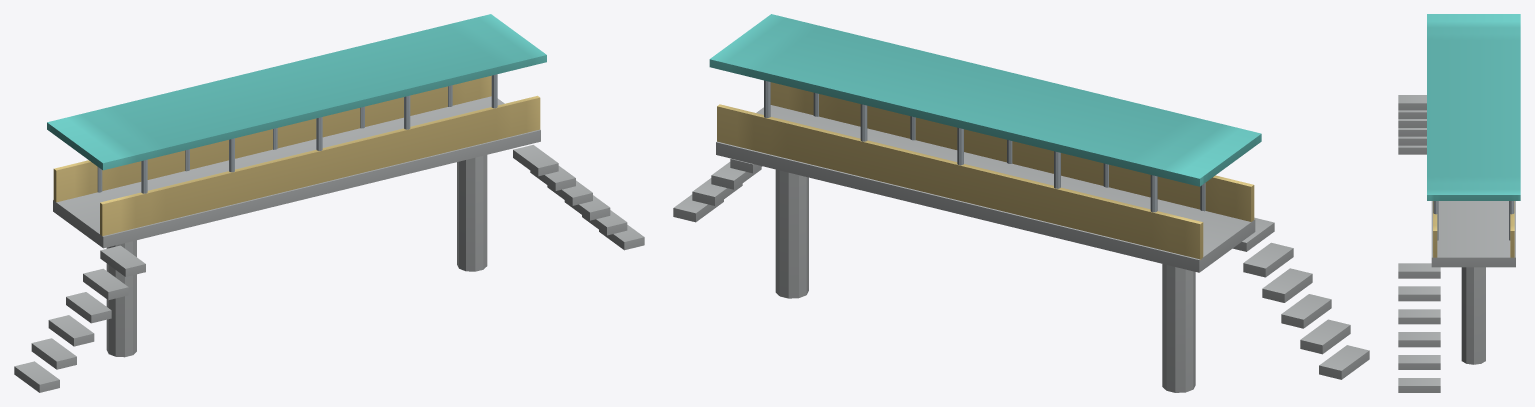
The model's file is pedestrian_bridge.glb.
The picture shows the model from 3 angles, left to right: view 1: azimuth 30°, elevation 25°; view 2: azimuth 150°, elevation 25°; view 3: azimuth 270°, elevation 25°; orthographic projection. The views are drawn at different scales.
Visible parts, largest first — view 1: pedestrian_bridge; view 2: pedestrian_bridge; view 3: pedestrian_bridge.
Part boxes in pixels (x1=…): pedestrian_bridge: x1=14, y1=14, x2=644, y2=392; pedestrian_bridge: x1=673, y1=14, x2=1369, y2=392; pedestrian_bridge: x1=1398, y1=14, x2=1520, y2=392.
Bounding box in the file's own units: 19.35 × 6.71 × 4.05.
Materials: 1 (1 with a texture image).
